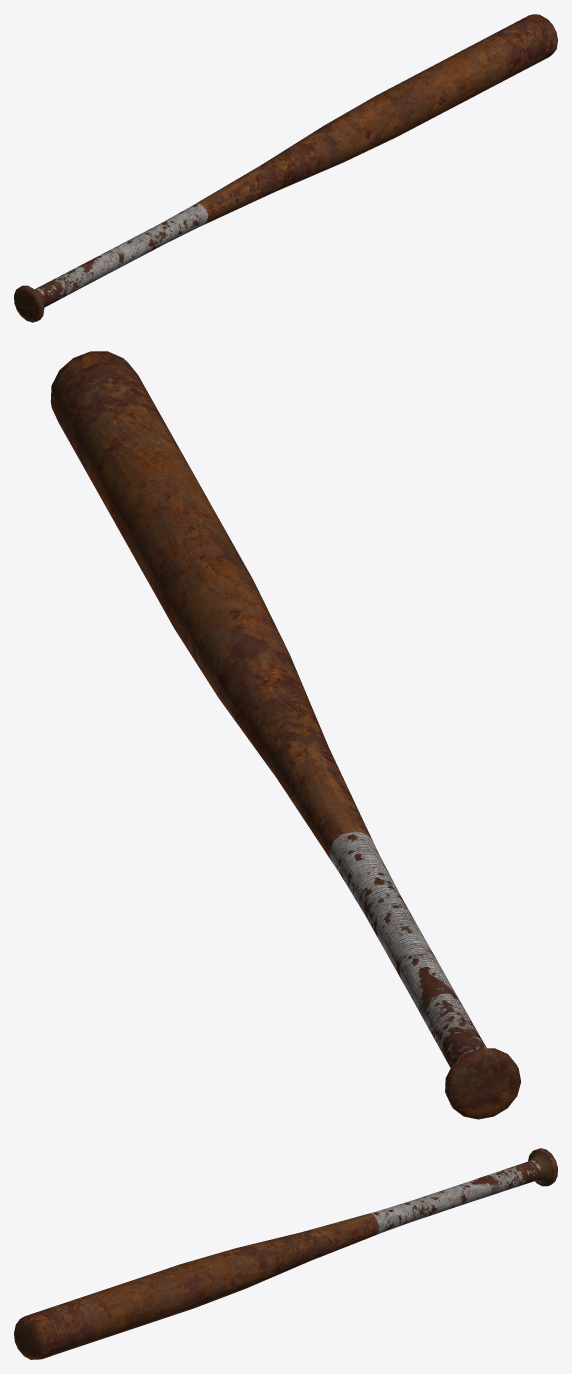
The model's file is Anim_idle_bate_objetos.0028.obj.
3 views of the same model, one above another, from view 1: azimuth 90°, elevation 25°; view 2: azimuth 150°, elevation 25°; view 3: azimuth 270°, elevation 25° (orthographic). The views are drawn at different scales.
Parts seen in each view (by area): view 1: Bate1; view 2: Bate1; view 3: Bate1.
Boxes of the visible parts, box(x1,y1,x2,y2) form: Bate1: box(14, 14, 557, 322); Bate1: box(50, 351, 521, 1119); Bate1: box(14, 1148, 557, 1359).
Bounding box in the file's own units: 3.97 × 0.6917 × 3.91.
